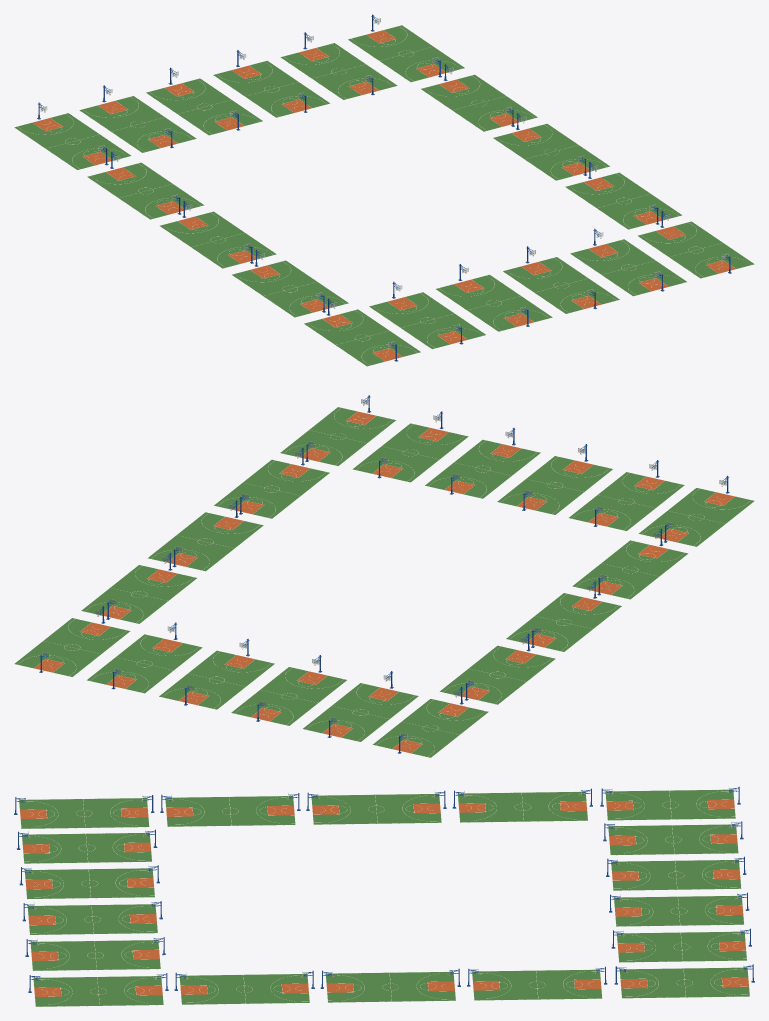
Rendered from SEU_Taoyuan_18_additional_v16.glb.
3 renders of one model, top to bottom at view 1: azimuth 30°, elevation 25°; view 2: azimuth 150°, elevation 25°; view 3: azimuth 270°, elevation 25°, orthographic. The views are drawn at different scales.
Visible parts, largest first — view 1: TAOYUAN18_V16_817128610_SURFACE, TAOYUAN18_V16_817128616_SURFACE, TAOYUAN18_V16_817128596_SURFACE, TAOYUAN18_V16_817128598_SURFACE, TAOYUAN18_V16_817128600_SURFACE, TAOYUAN18_V16_817128606_SURFACE, TAOYUAN18_V16_817128609_SURFACE, TAOYUAN18_V16_817128595_SURFACE, TAOYUAN18_V16_817128615_SURFACE, TAOYUAN18_V16_817128618_SURFACE, TAOYUAN18_V16_817128597_SURFACE, TAOYUAN18_V16_817128613_SURFACE (+6 smaller); view 2: TAOYUAN18_V16_817128613_SURFACE, TAOYUAN18_V16_817128597_SURFACE, TAOYUAN18_V16_817128595_SURFACE, TAOYUAN18_V16_817128610_SURFACE, TAOYUAN18_V16_817128616_SURFACE, TAOYUAN18_V16_817128599_SURFACE, TAOYUAN18_V16_817128618_SURFACE, TAOYUAN18_V16_817128609_SURFACE, TAOYUAN18_V16_817128598_SURFACE, TAOYUAN18_V16_817128615_SURFACE, TAOYUAN18_V16_817128617_SURFACE, TAOYUAN18_V16_817128596_SURFACE (+6 smaller); view 3: TAOYUAN18_V16_817128606_SURFACE, TAOYUAN18_V16_817128616_SURFACE, TAOYUAN18_V16_817128607_SURFACE, TAOYUAN18_V16_817128613_SURFACE, TAOYUAN18_V16_817128615_SURFACE, TAOYUAN18_V16_817128617_SURFACE, TAOYUAN18_V16_817128618_SURFACE, TAOYUAN18_V16_817128595_SURFACE, TAOYUAN18_V16_817128610_SURFACE, TAOYUAN18_V16_817128594_SURFACE, TAOYUAN18_V16_817128596_SURFACE, TAOYUAN18_V16_817128599_SURFACE (+6 smaller).
Part boxes in pixels (<box>): TAOYUAN18_V16_817128610_SURFACE: <box>436,274,552,331</box>; TAOYUAN18_V16_817128616_SURFACE: <box>638,221,754,278</box>; TAOYUAN18_V16_817128596_SURFACE: <box>79,96,196,152</box>; TAOYUAN18_V16_817128598_SURFACE: <box>281,43,397,99</box>; TAOYUAN18_V16_817128600_SURFACE: <box>421,74,537,131</box>; TAOYUAN18_V16_817128606_SURFACE: <box>304,309,420,366</box>; TAOYUAN18_V16_817128609_SURFACE: <box>369,292,485,349</box>; TAOYUAN18_V16_817128595_SURFACE: <box>146,78,262,135</box>; TAOYUAN18_V16_817128615_SURFACE: <box>570,239,686,296</box>; TAOYUAN18_V16_817128618_SURFACE: <box>160,211,276,268</box>; TAOYUAN18_V16_817128597_SURFACE: <box>213,60,329,117</box>; TAOYUAN18_V16_817128613_SURFACE: <box>503,257,619,313</box>; TAOYUAN18_V16_817128613_SURFACE: <box>425,440,540,498</box>; TAOYUAN18_V16_817128597_SURFACE: <box>159,650,274,709</box>; TAOYUAN18_V16_817128595_SURFACE: <box>231,667,346,725</box>; TAOYUAN18_V16_817128610_SURFACE: <box>497,456,612,514</box>; TAOYUAN18_V16_817128616_SURFACE: <box>280,407,395,465</box>; TAOYUAN18_V16_817128599_SURFACE: <box>14,618,129,676</box>; TAOYUAN18_V16_817128618_SURFACE: <box>506,593,621,651</box>; TAOYUAN18_V16_817128609_SURFACE: <box>569,472,684,530</box>; TAOYUAN18_V16_817128598_SURFACE: <box>87,634,202,693</box>; TAOYUAN18_V16_817128615_SURFACE: <box>353,423,468,482</box>; TAOYUAN18_V16_817128617_SURFACE: <box>214,460,329,518</box>; TAOYUAN18_V16_817128596_SURFACE: <box>303,683,418,741</box>; TAOYUAN18_V16_817128606_SURFACE: <box>19,798,149,828</box>; TAOYUAN18_V16_817128616_SURFACE: <box>33,976,163,1006</box>; TAOYUAN18_V16_817128607_SURFACE: <box>165,796,295,826</box>; TAOYUAN18_V16_817128613_SURFACE: <box>27,904,157,934</box>; TAOYUAN18_V16_817128615_SURFACE: <box>30,940,160,970</box>; TAOYUAN18_V16_817128617_SURFACE: <box>179,974,309,1004</box>; TAOYUAN18_V16_817128618_SURFACE: <box>311,794,441,824</box>; TAOYUAN18_V16_817128595_SURFACE: <box>611,860,741,890</box>; TAOYUAN18_V16_817128610_SURFACE: <box>24,868,154,898</box>; TAOYUAN18_V16_817128594_SURFACE: <box>605,789,735,820</box>; TAOYUAN18_V16_817128596_SURFACE: <box>608,824,738,854</box>; TAOYUAN18_V16_817128599_SURFACE: <box>619,967,749,998</box>.
Bounding box in the file's own units: 113 × 4.2 × 162.
